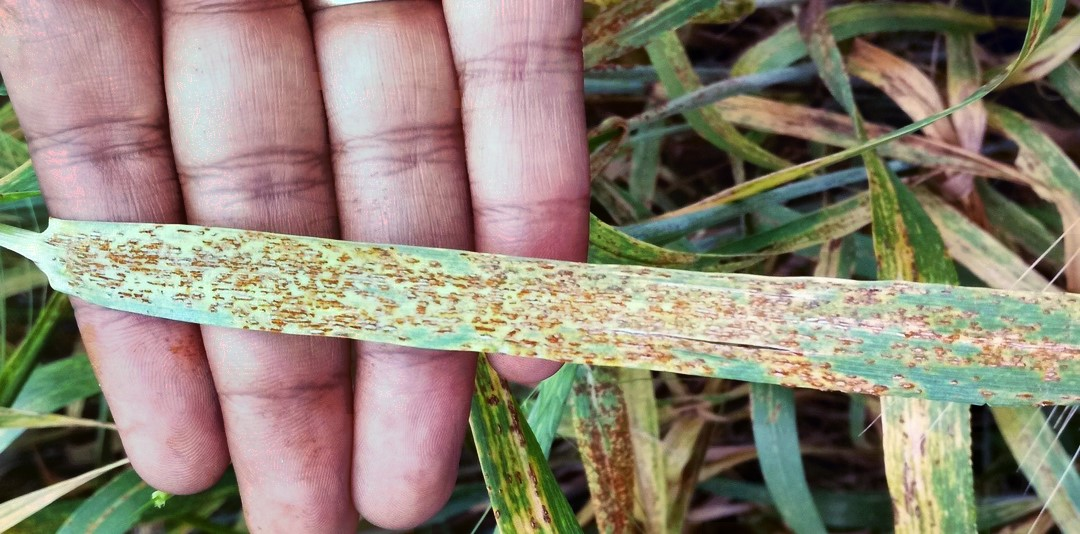Leaf Rust: (87, 225, 895, 395)
